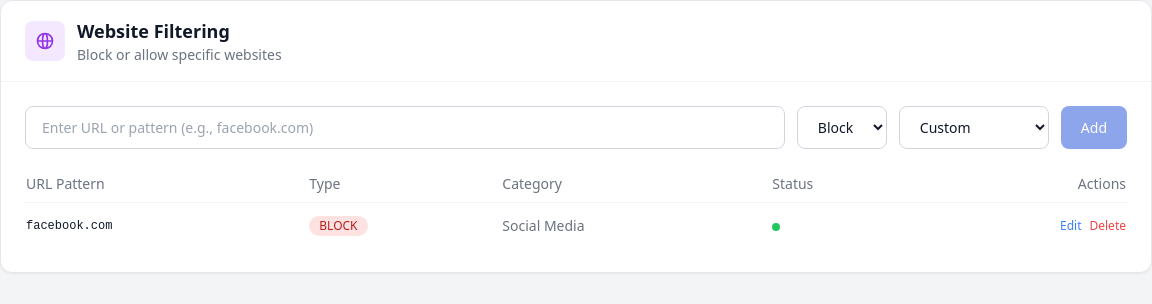
Test: WebsiteFilterSection edit › discards changes and closes the edit form when cancel is clicked
Click the button with aria-label "edit facebook.com".
click(1071, 226)  # box [1060,218,1082,234]
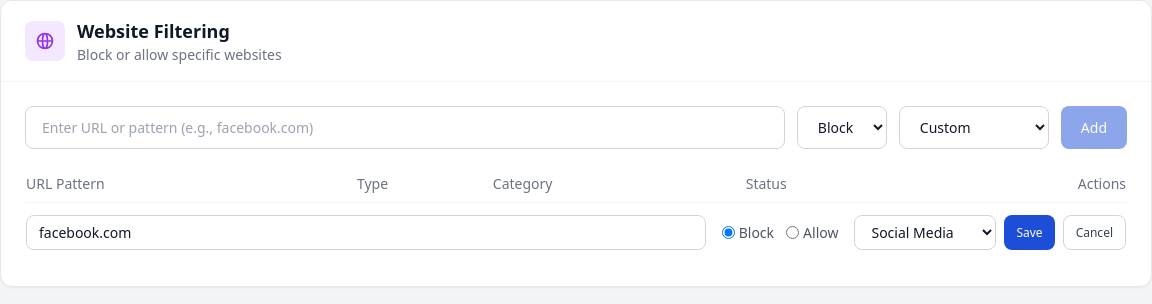
Expected: the form with test id "url-filter-edit-form" is shown, [26,215,1126,250]
Replace the text in the field named "URL pattern" with "should-not-save.com" at (366, 232), box [26,215,706,250]
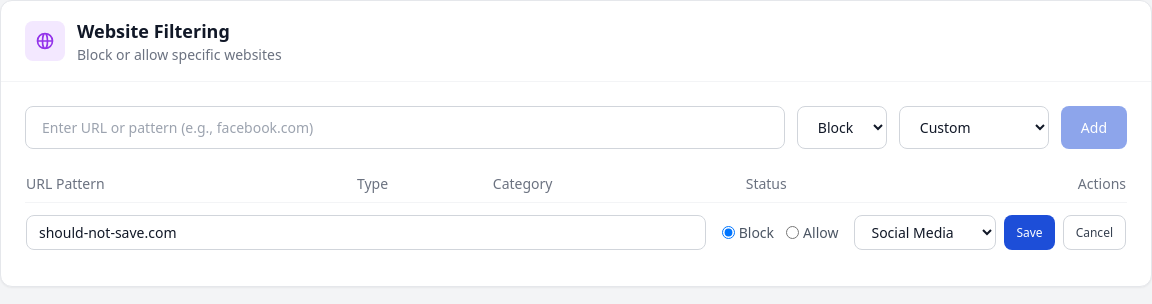
Click the button "Cancel".
click(1094, 232)  # box [1063,215,1126,250]
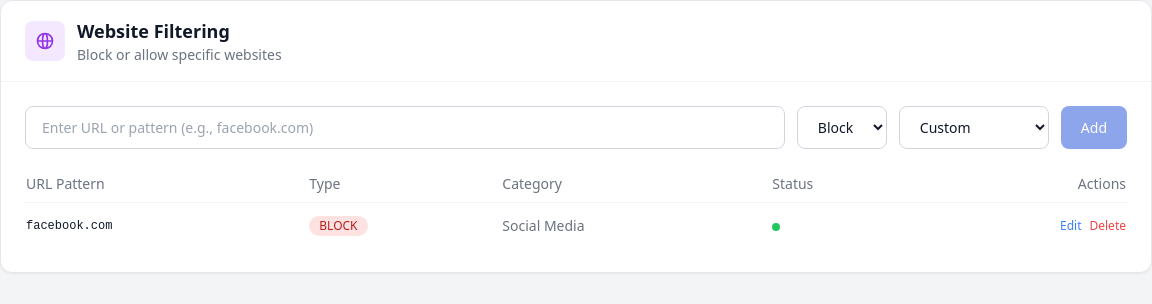
Expected: the form with test id "url-filter-edit-form" is gone
